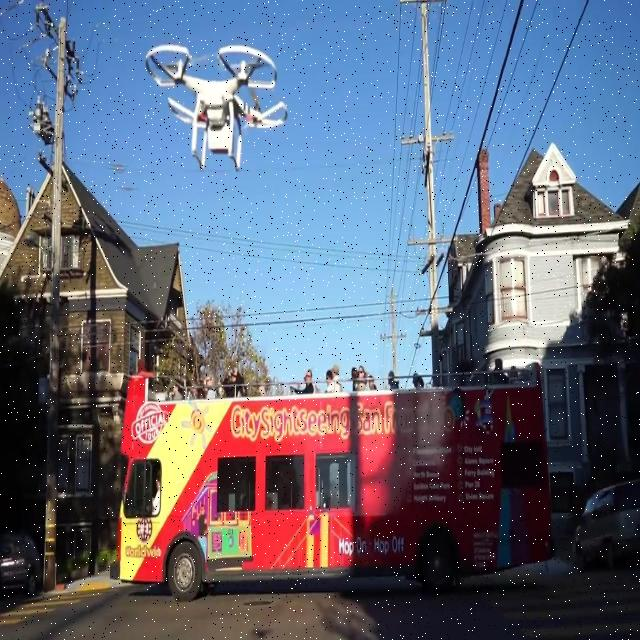UAV: (145, 44, 289, 172)
